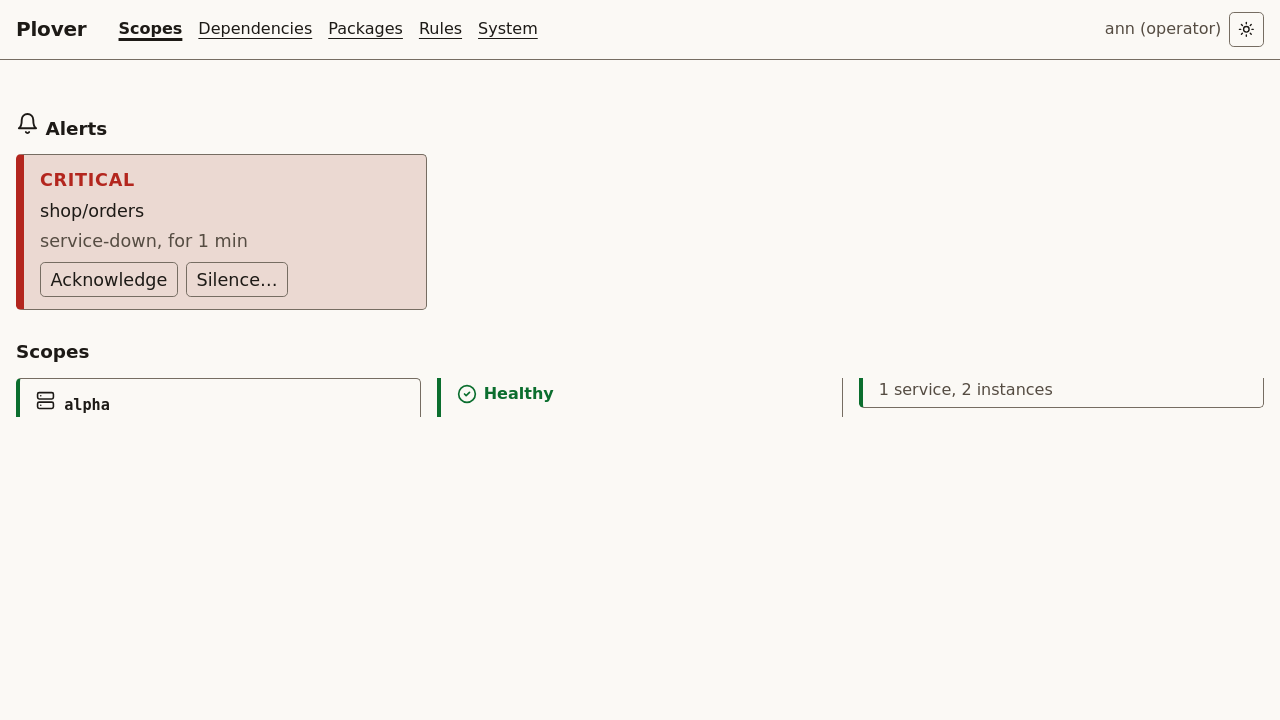
Test: changing alerts › silences an alert for the time and for the reason that are asked
Click the button "Silence…" at coordinates (237, 280), box [186,262,288,297]
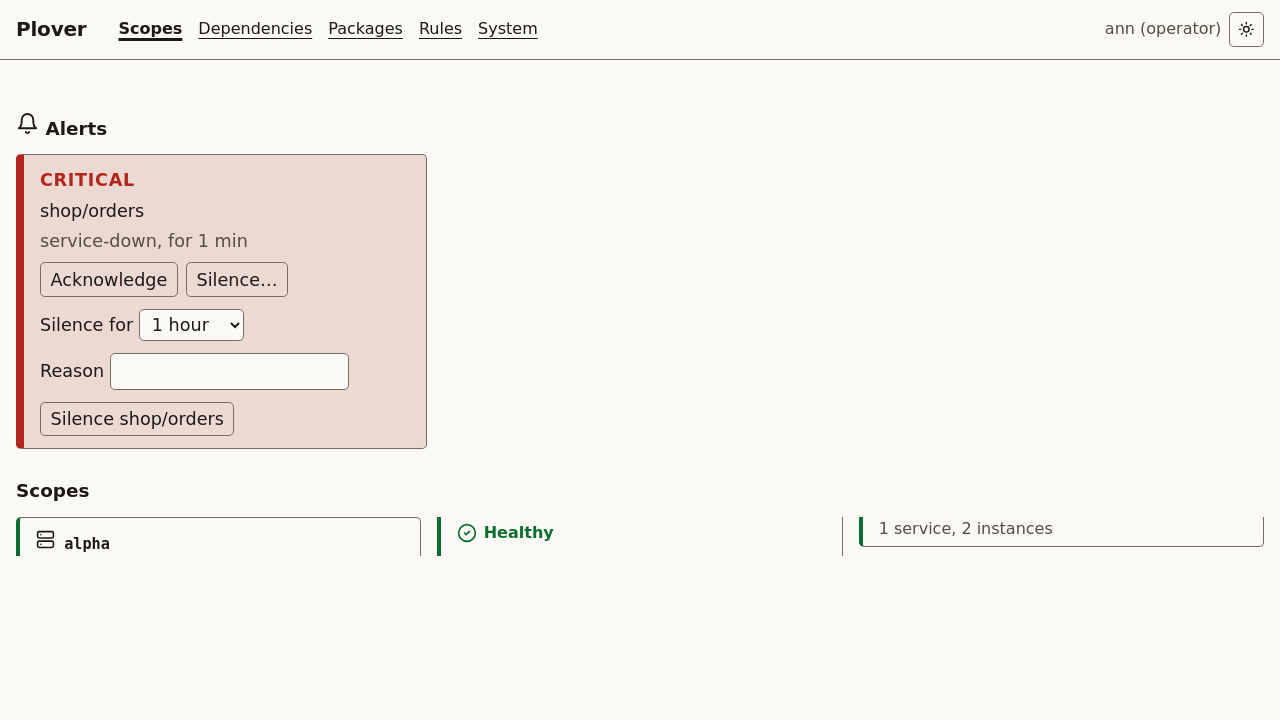
Select "4 hours" in the dropdown labelled "Silence for" at coordinates (191, 325), box [139,309,244,341]
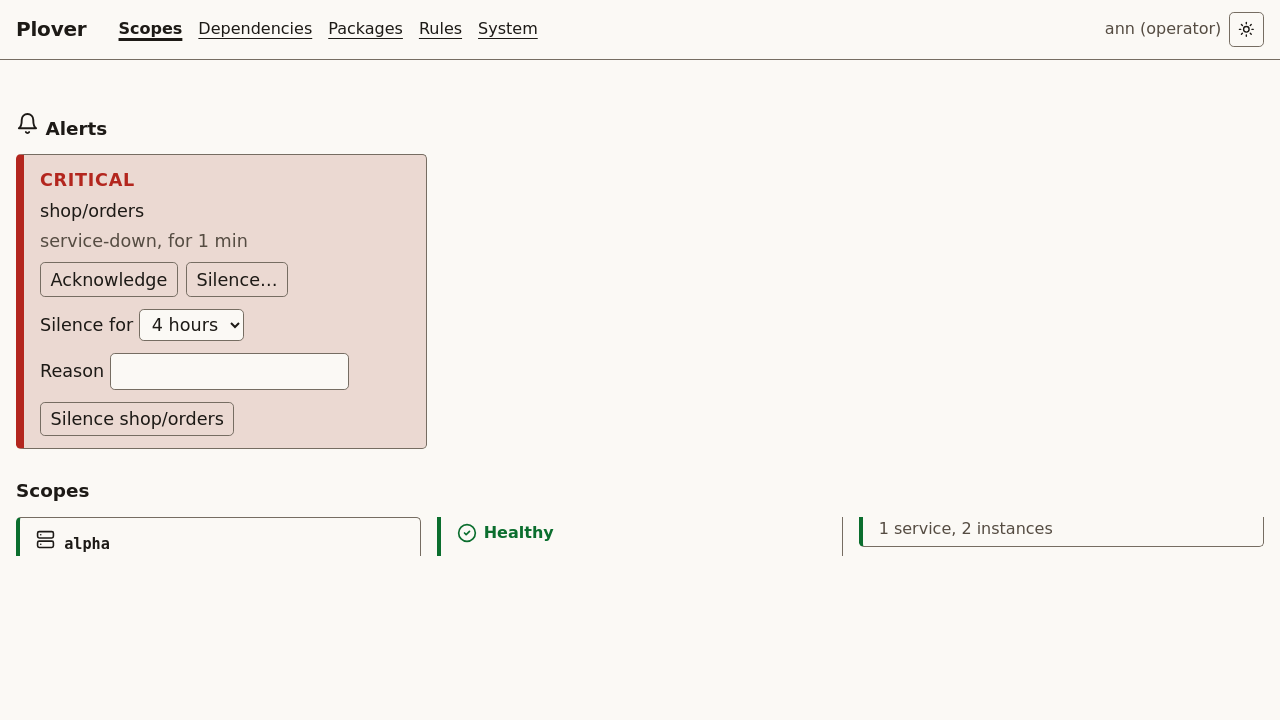
Type "  planned maintenance " into the field labelled "Reason" at coordinates (229, 371), box [110,353,349,390]
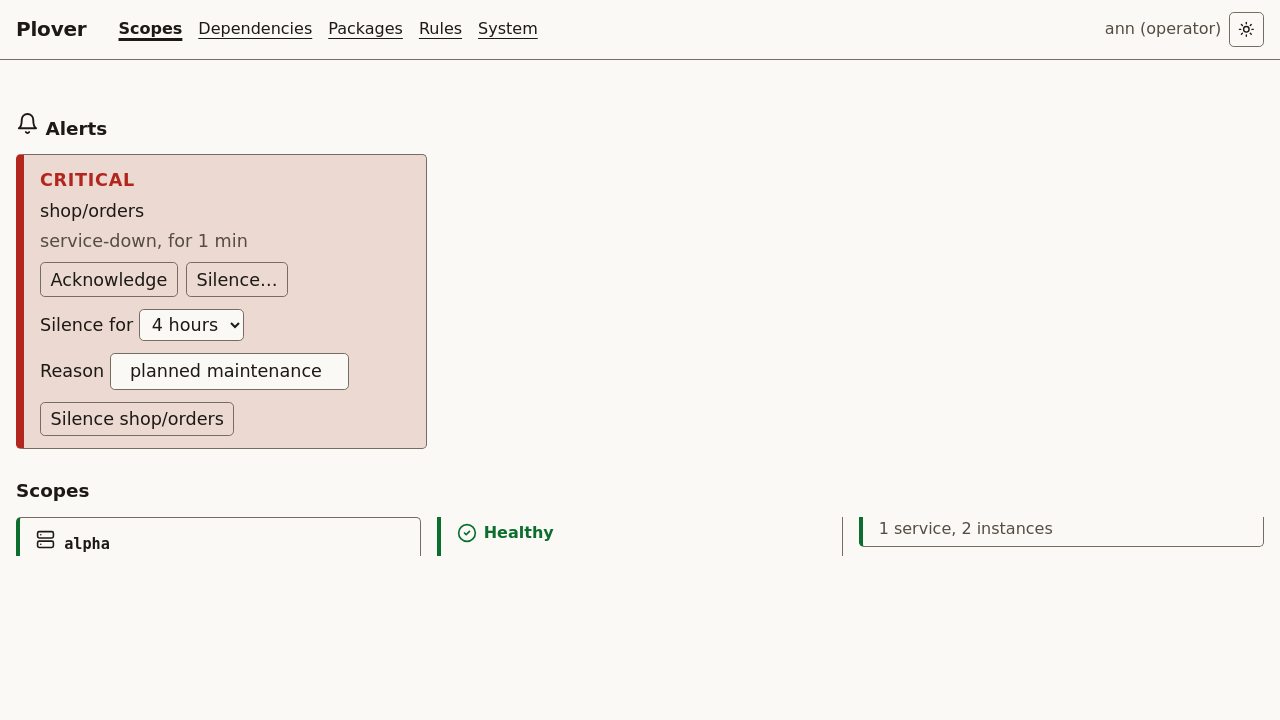
Submit the form with class "silence-form", box [40,309,349,436]
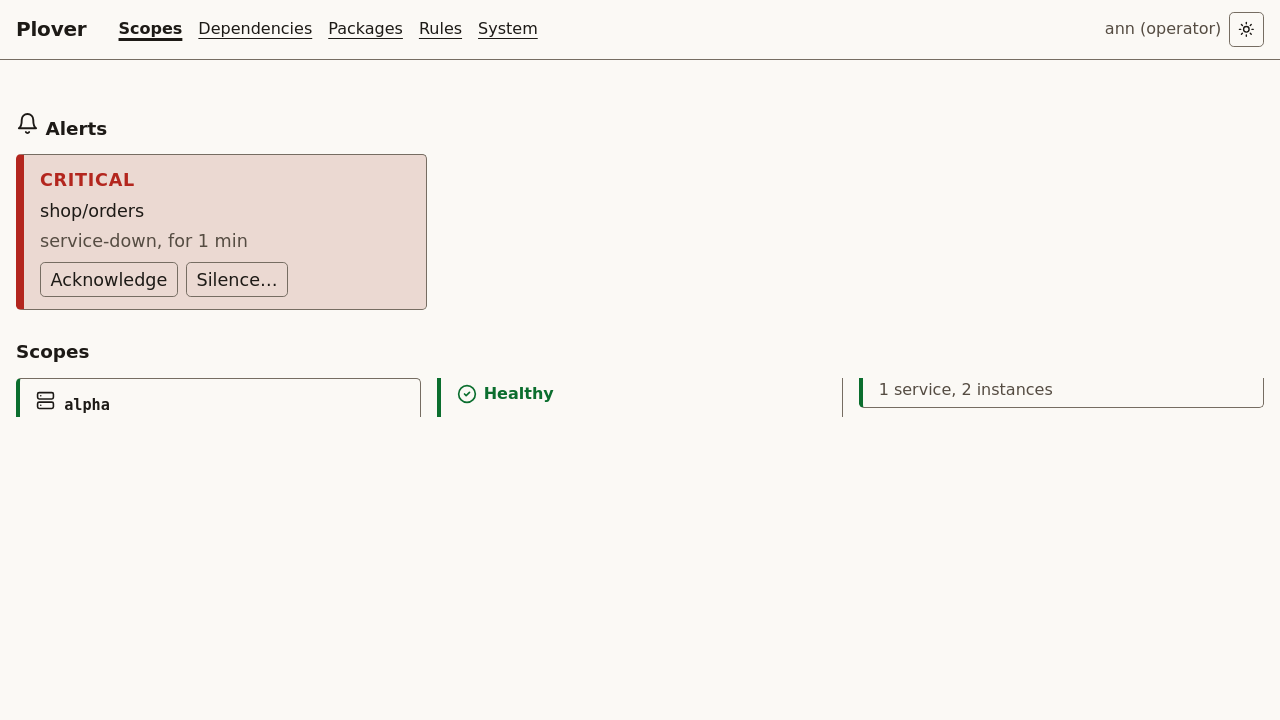
Result: the form with class "silence-form" is gone
